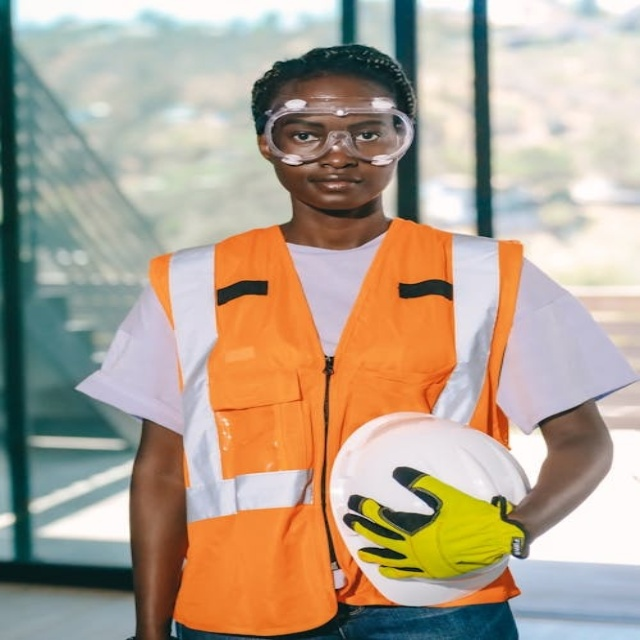Gafas: (260, 96, 414, 167)
Guantes: (346, 466, 526, 580)
Sin_mascara: (302, 170, 370, 206)
